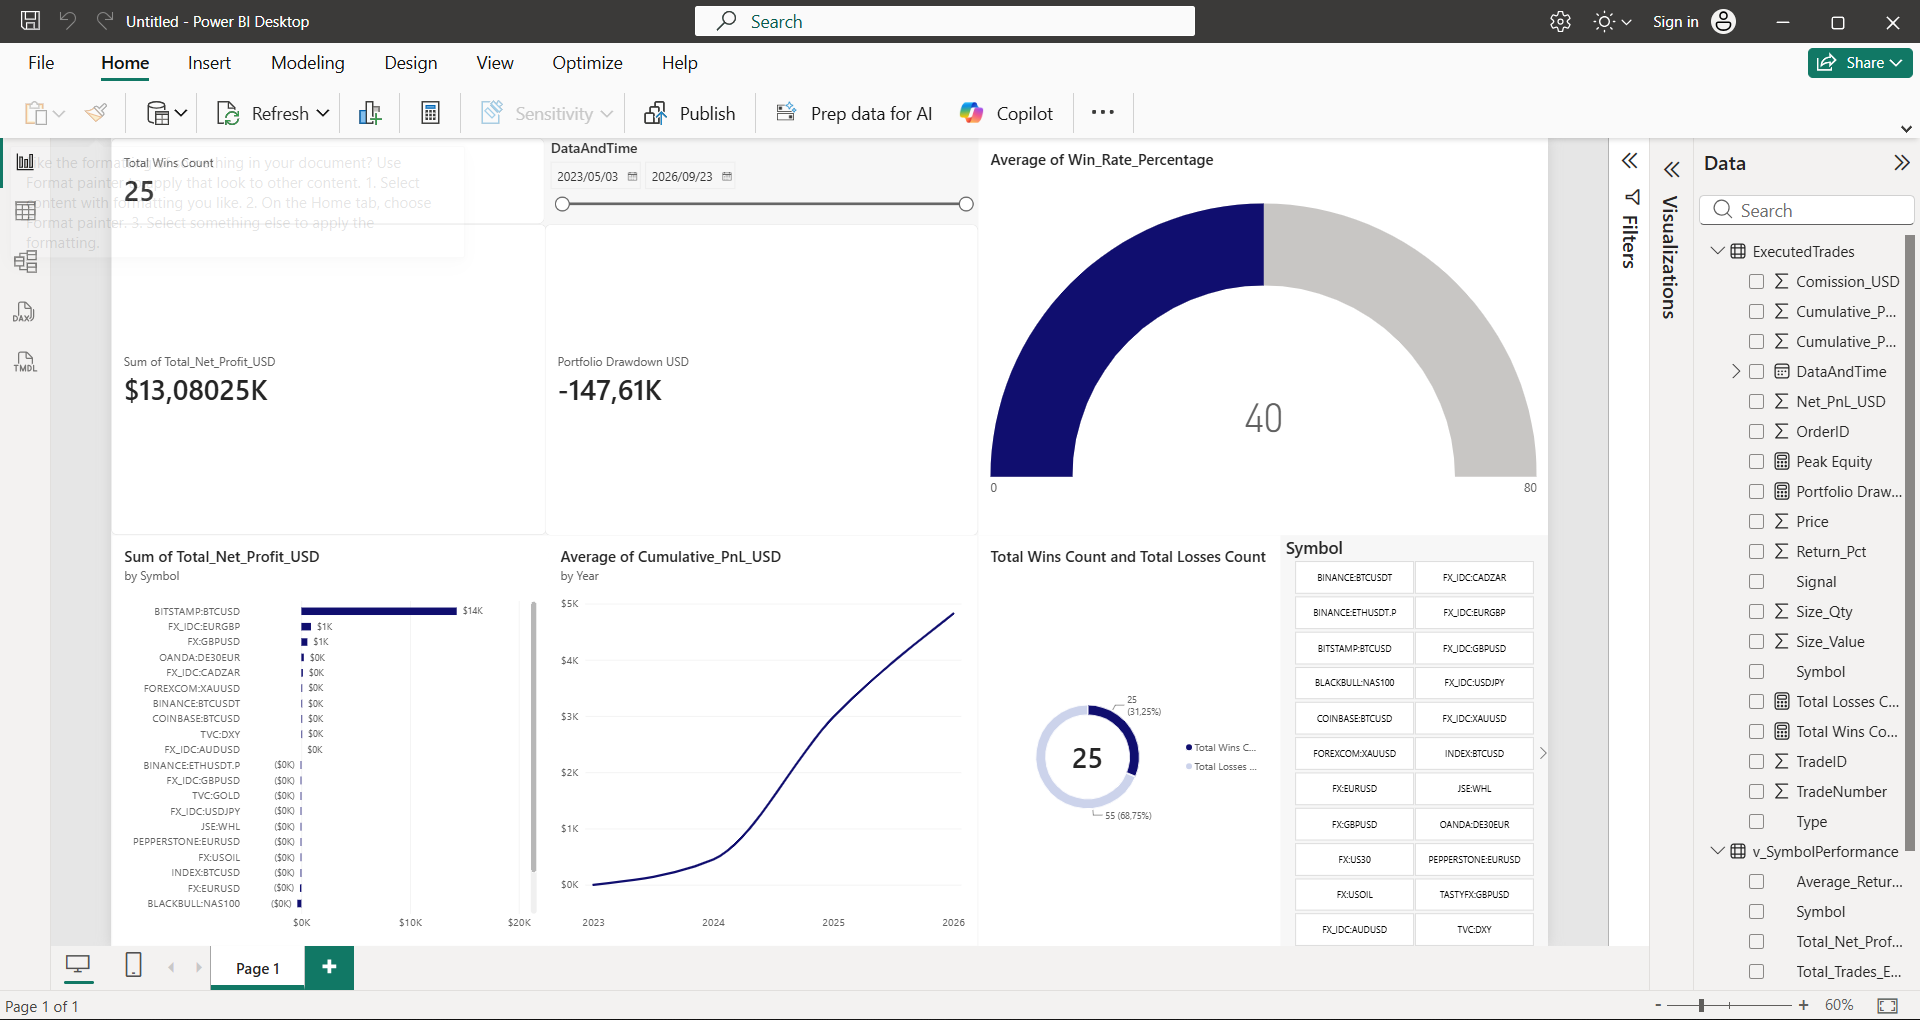

What the dashboard file says about the page in this screenshot:
{"tool":"powerbi","page":{"name":"Page 1","canvas":[1920,1080],"ordinal":0},"visuals":[{"type":"clusteredBarChart","fields":{"Category":["v_SymbolPerformance.Symbol"],"Y":["Sum(v_SymbolPerformance.Total_Net_Profit_USD)"]},"box":[2.1,531.6,583.1,548.1],"z":0},{"type":"cardVisual","fields":{"Data":["Sum(v_SymbolPerformance.Total_Net_Profit_USD)"]},"box":[0,115.3,582.5,415.8],"z":1000},{"type":"slicer","fields":{"Values":["ExecutedTrades.DataAndTime"]},"box":[579.1,0,579.1,475.9],"z":2000},{"type":"gauge","fields":{"Y":["Avg(v_WinlossMetrics.Win_Rate_Percentage)"]},"box":[1158.2,0,761.9,530.2],"z":3000},{"type":"cardVisual","fields":{"Data":["ExecutedTrades.Total Wins Count"]},"box":[0,0,579.1,115.8],"z":4000},{"type":"cardVisual","fields":{"Data":["ExecutedTrades.Portfolio Drawdown USD"]},"box":[579.1,115.8,579.1,416.2],"z":5000},{"type":"lineChart","fields":{"Category":["ExecutedTrades.DataAndTime.Variation.Date Hierarchy.Year","ExecutedTrades.DataAndTime.Variation.Date Hierarchy.Quarter","ExecutedTrades.DataAndTime.Variation.Date Hierarchy.Month","ExecutedTrades.DataAndTime.Variation.Date Hierarchy.Day"],"Y":["Avg(ExecutedTrades.Cumulative_PnL_USD)"]},"box":[585.2,531.6,572.8,548.1],"z":6000},{"type":"donutChart","fields":{"Y":["ExecutedTrades.Total Wins Count","ExecutedTrades.Total Losses Count"]},"box":[1158.2,530.2,403.6,550.1],"z":7000},{"type":"slicer","fields":{"Values":["v_SymbolPerformance.Symbol"]},"box":[1561.7,530.2,358.3,550.1],"z":8000}]}

Visuals, with their boxes on the page's 1920x1080 design canvas (x1, y1, x2, y2). These are canvas units, not pixel positions in the 1920x1020 screenshot, which may show the page scaled, cropped or inside an application window:
clusteredBarChart - v_SymbolPerformance.Symbol x Sum(v_SymbolPerformance.Total_Net_Profit_USD): [x1=2, y1=532, x2=585, y2=1080]
cardVisual - Sum(v_SymbolPerformance.Total_Net_Profit_USD): [x1=0, y1=115, x2=582, y2=531]
slicer - ExecutedTrades.DataAndTime: [x1=579, y1=0, x2=1158, y2=476]
gauge - Avg(v_WinlossMetrics.Win_Rate_Percentage): [x1=1158, y1=0, x2=1920, y2=530]
cardVisual - ExecutedTrades.Total Wins Count: [x1=0, y1=0, x2=579, y2=116]
cardVisual - ExecutedTrades.Portfolio Drawdown USD: [x1=579, y1=116, x2=1158, y2=532]
lineChart - ExecutedTrades.DataAndTime.Variation.Date Hierarchy.Year x ExecutedTrades.DataAndTime.Variation.Date Hierarchy.Quarter: [x1=585, y1=532, x2=1158, y2=1080]
donutChart - ExecutedTrades.Total Wins Count x ExecutedTrades.Total Losses Count: [x1=1158, y1=530, x2=1562, y2=1080]
slicer - v_SymbolPerformance.Symbol: [x1=1562, y1=530, x2=1920, y2=1080]
